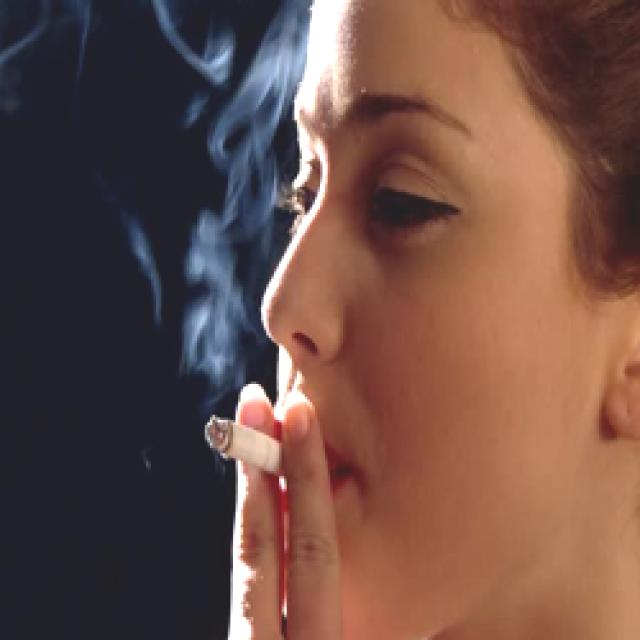Smooking: (192, 398, 290, 478)
